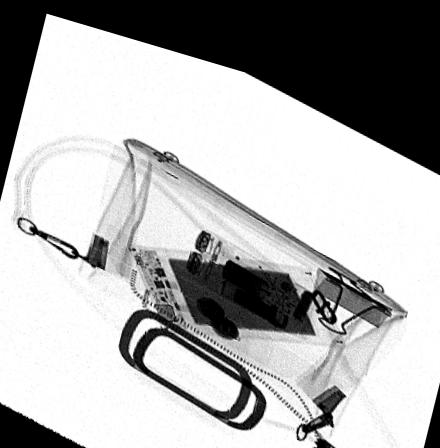Powerbank: (125, 238, 348, 327)
